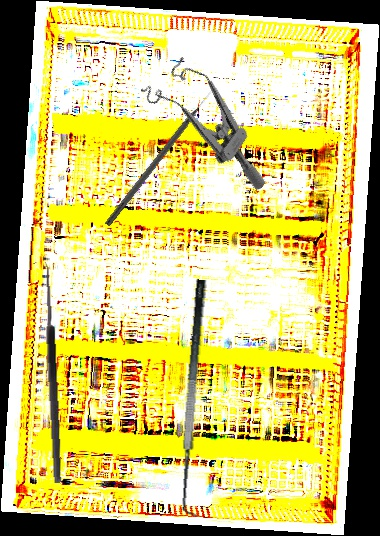Hook Surgical: (103, 85, 219, 228), (31, 261, 64, 484)
Spatula Surgical: (169, 278, 227, 518)
Speculum: (132, 48, 297, 192)
